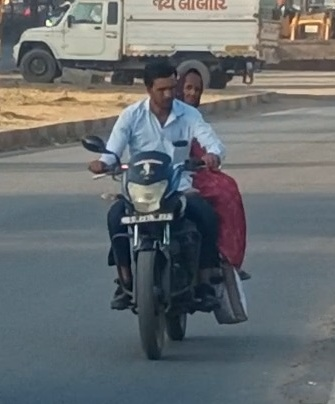BikeWithRider: (78, 57, 256, 365)
NoHelmet: (134, 57, 185, 113), (172, 65, 209, 110)
